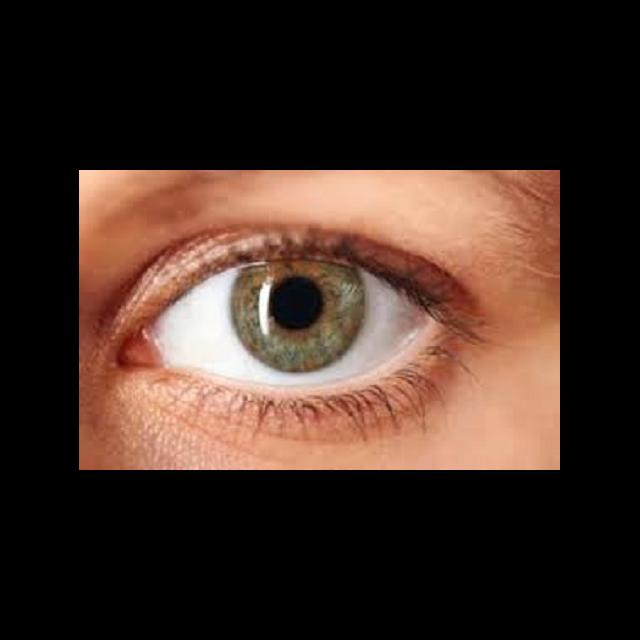eye: (155, 258, 435, 389)
iris: (231, 262, 365, 374)
